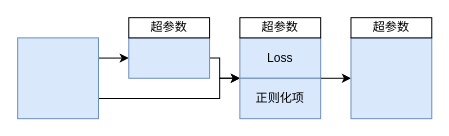
Some shapes in this 449 by 136 pixel diagram are drawn without their labels. The box of each missing label's shape, as (x1, y1, x2, y2) in pixels:
优化算法: (350, 37, 432, 119)
数据集: (17, 37, 98, 119)
模型: (128, 37, 210, 78)
